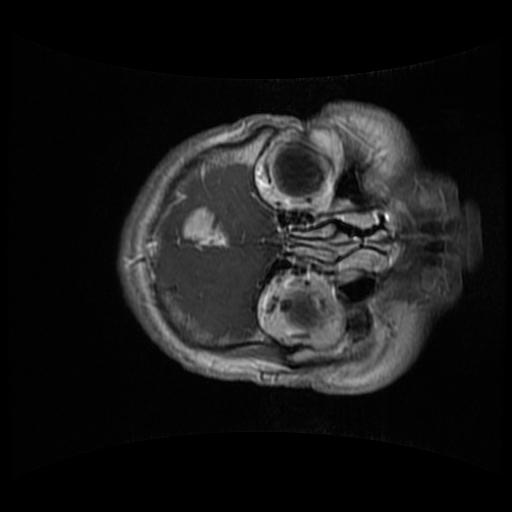glioma: (181, 206, 228, 248)
